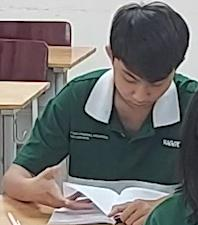Reading: (0, 0, 198, 220)
